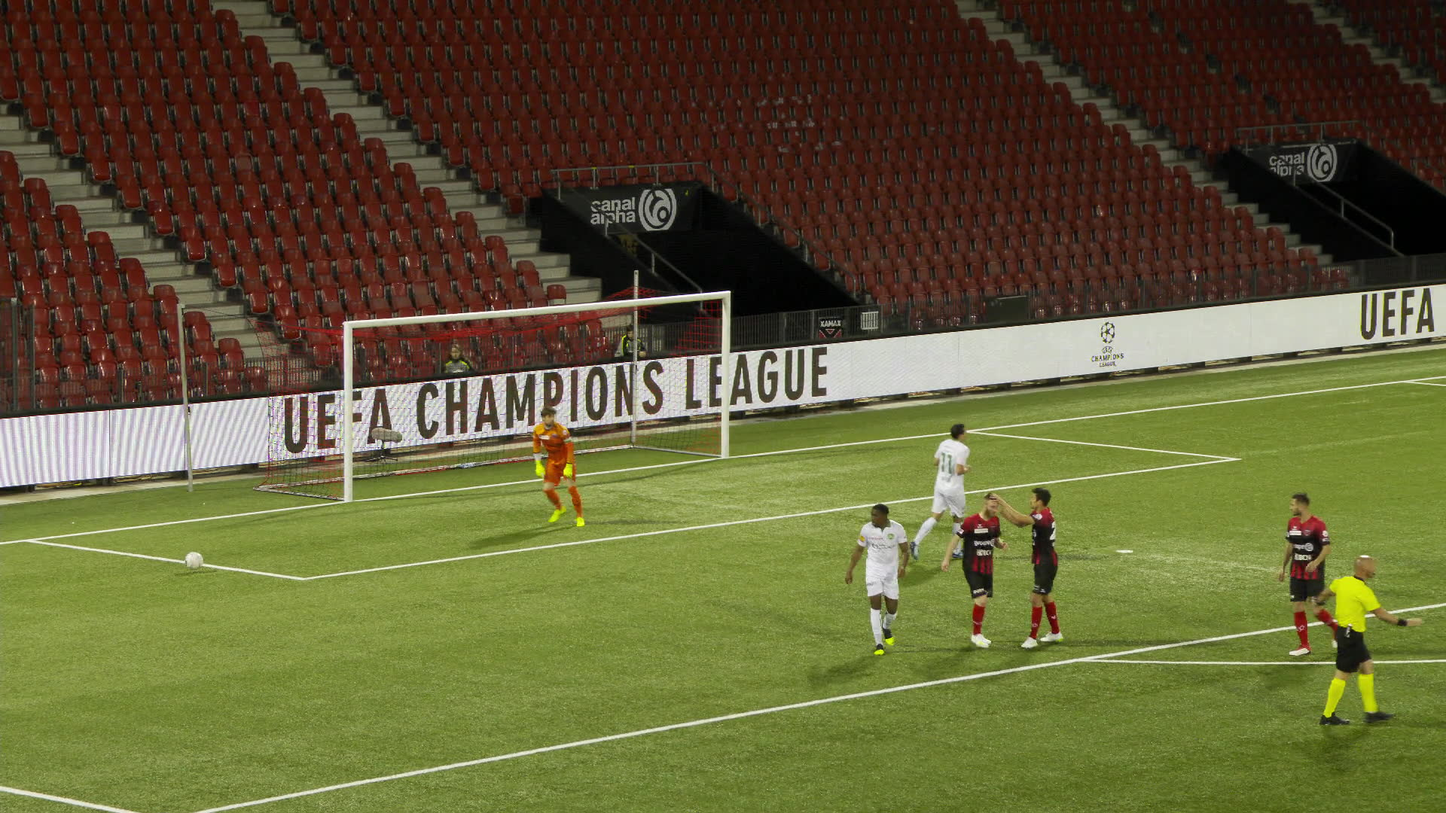ball: (185, 553, 200, 568)
player: (992, 486, 1064, 647), (938, 493, 1006, 647), (1277, 491, 1338, 655), (846, 502, 910, 653), (913, 428, 970, 560), (532, 410, 587, 526)
referee: (1304, 554, 1415, 725)
